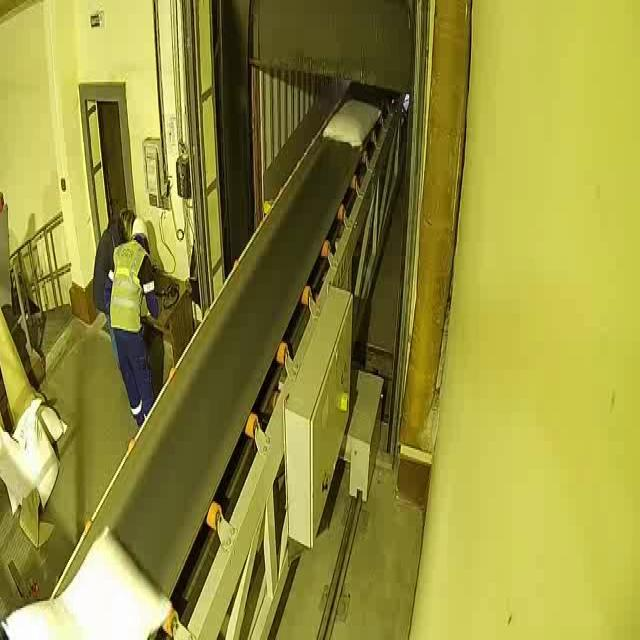bag: (1, 522, 184, 636), (321, 92, 382, 150)
